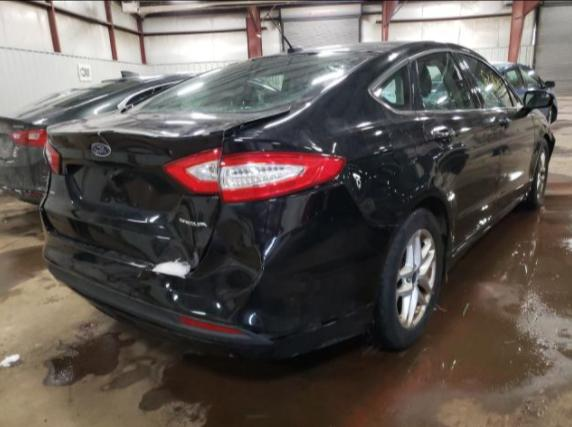Broken part: (180, 106, 296, 277), (292, 163, 404, 233)
Dent: (74, 141, 212, 274), (233, 207, 373, 338), (174, 220, 262, 295), (135, 116, 214, 140)
Missing part: (81, 165, 152, 211)
Paint chip: (147, 259, 190, 279)
